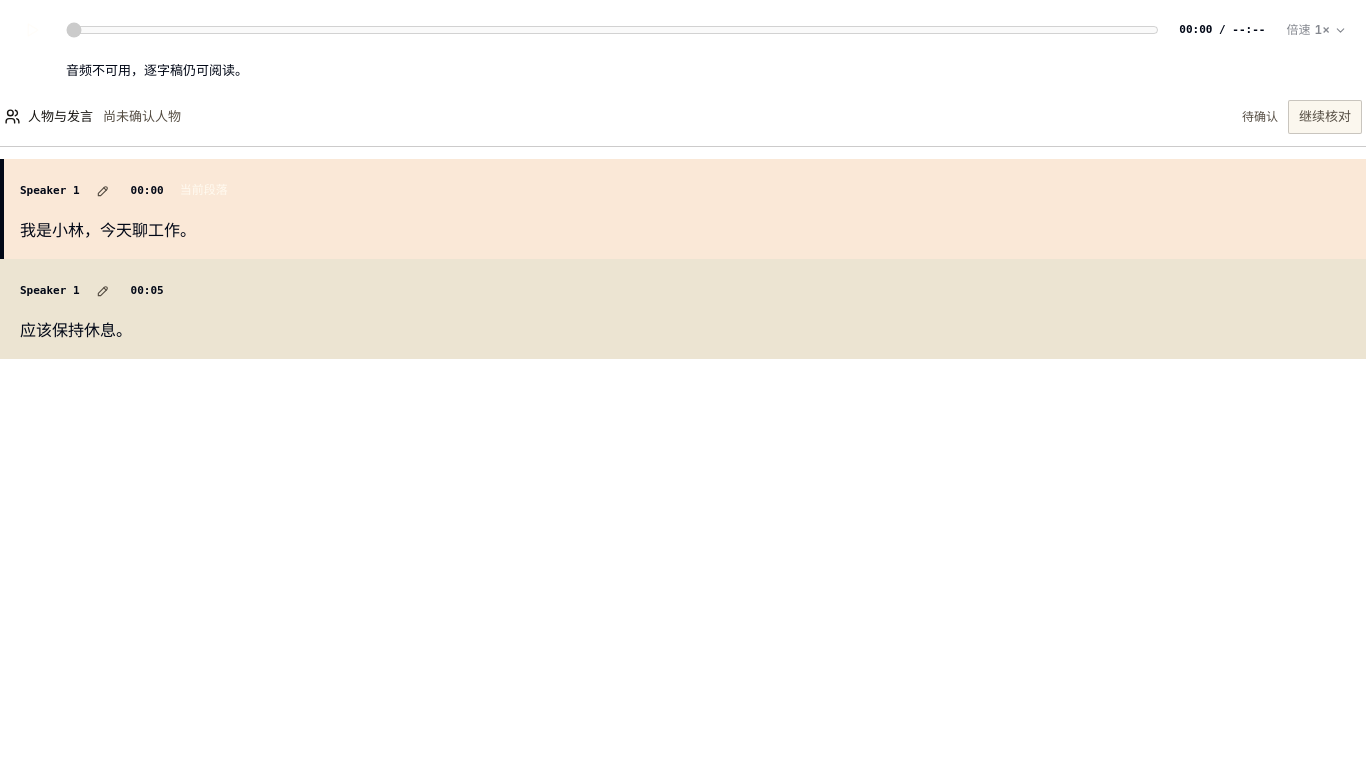
cannot apply or edit a current server draft while displaying another source version
Click the button "继续核对": (1325, 117) [1288, 100, 1362, 134]
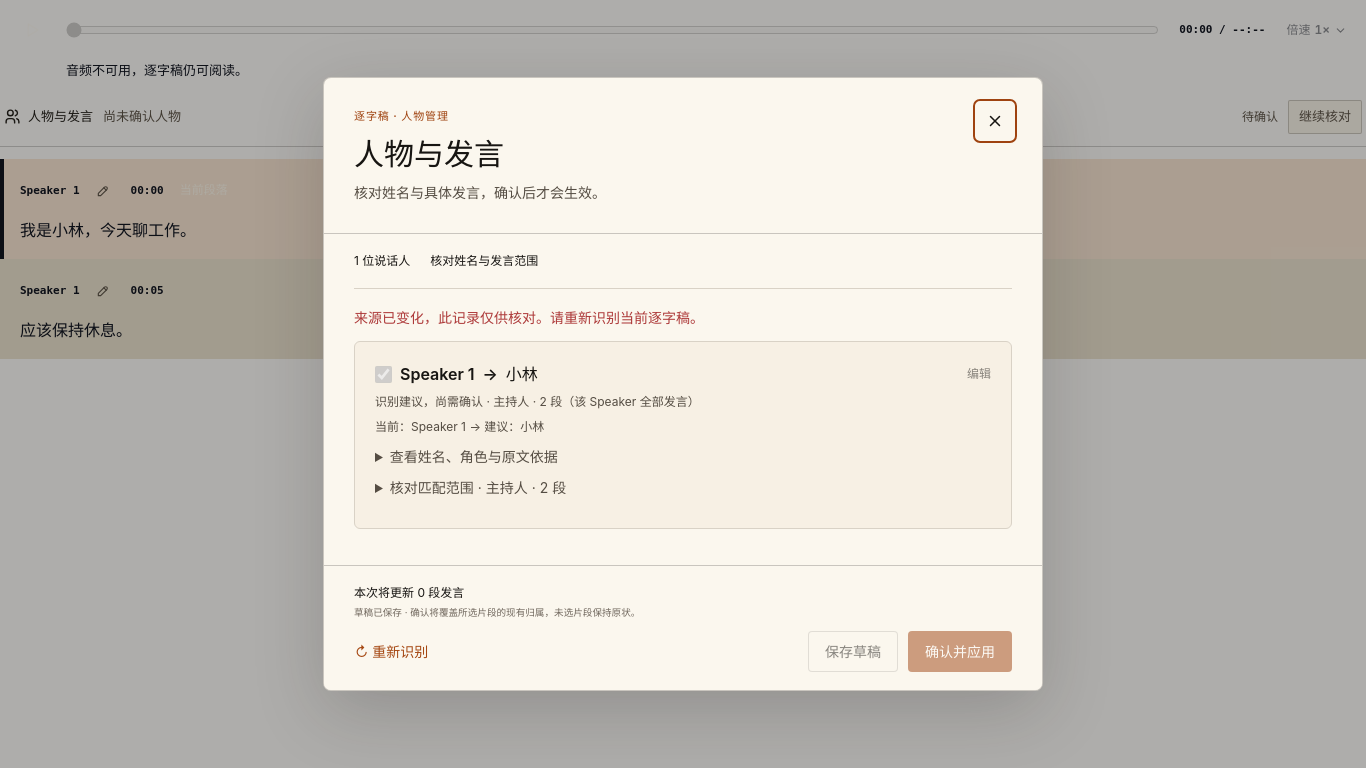
Check: the button "确认并应用" is disabled, box [908, 631, 1012, 672]
Check: the button with aria-label "编辑匹配 小林" is disabled, box [967, 362, 991, 386]
Check: the text "来源已变化，此记录仅供核对。请重新识别当前逐字稿。" is shown, box [354, 309, 704, 326]
